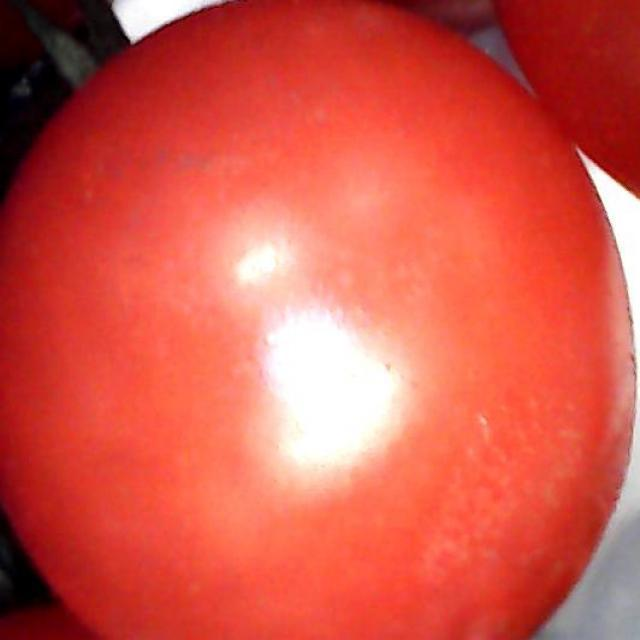Healthy: (11, 4, 634, 640)
